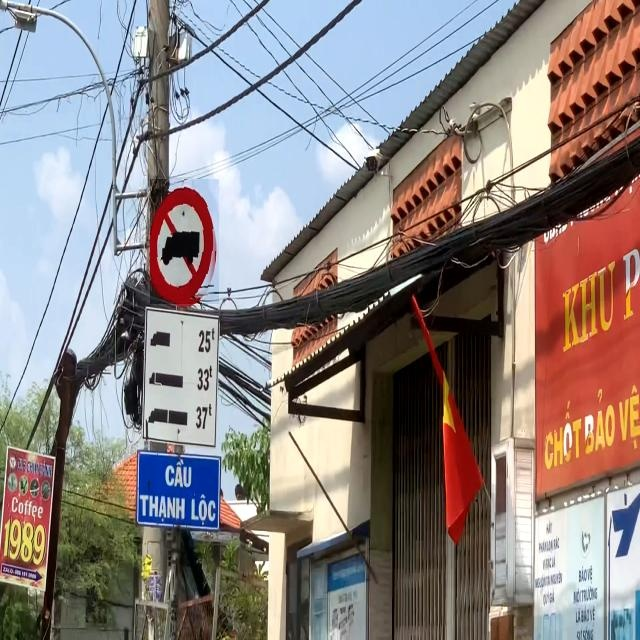bien_chi_dan: (150, 179, 219, 304)
